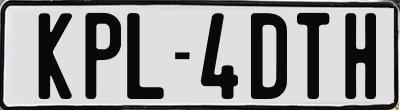4: (199, 12, 239, 102)
D: (248, 12, 288, 99)
H: (344, 13, 381, 99)
K: (36, 12, 72, 99)
L: (126, 13, 165, 105)
P: (84, 10, 121, 97)
T: (296, 11, 328, 103)
